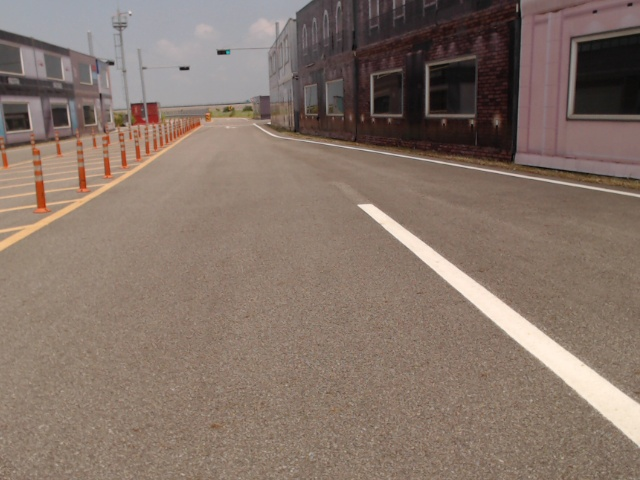green_3: (217, 49, 231, 56)
